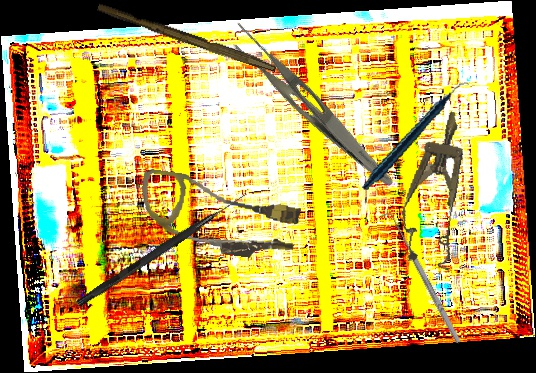Cannula: (134, 168, 304, 264)
Dressing Forceps: (217, 18, 411, 190)
Handpiece: (346, 81, 487, 191)
Hook Surgical: (76, 188, 248, 310), (380, 208, 464, 348)
Scalpel Handle: (95, 2, 279, 73)
Speculum: (392, 105, 482, 272)
